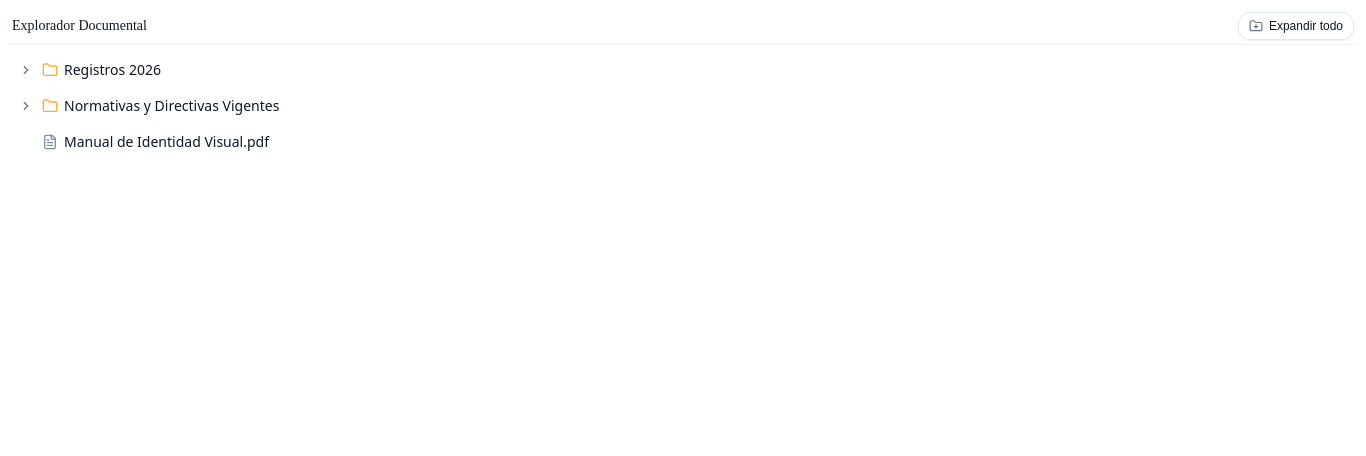
Test: TreeView Component › permite expandir y contraer todo el árbol con el botón toggle en la barra de herramientas
Expected: the text "Explorador Documental" is shown, x1=12 y1=16 x2=147 y2=36
Expected: the text "Aduanas y Aranceles" is not shown
Click the button "Expandir todo" at (1296, 26), box x1=1238 y1=12 x2=1354 y2=40
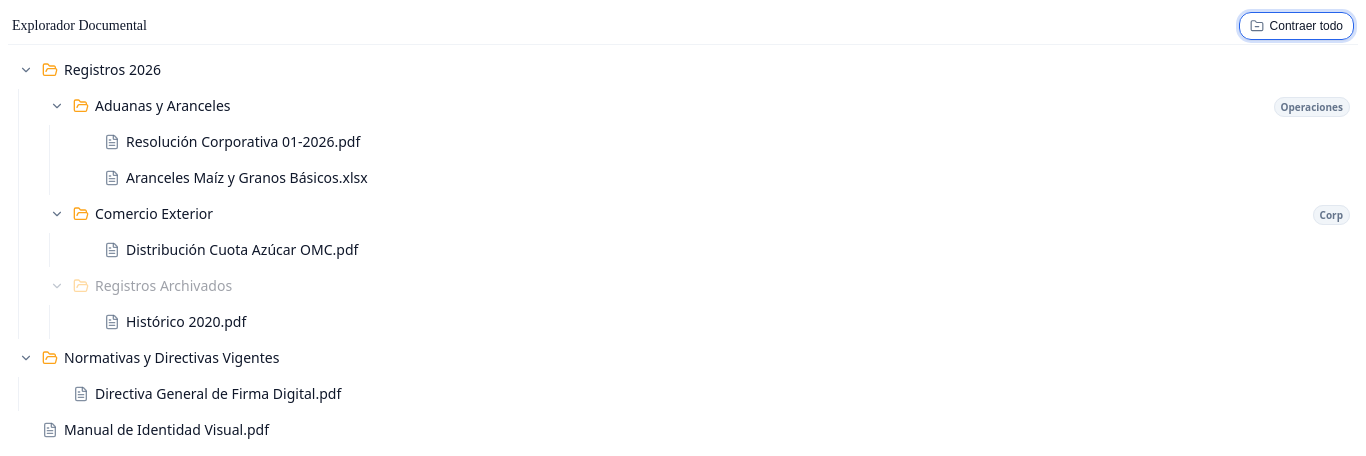
Expected: the text "Aduanas y Aranceles" is shown, x1=95 y1=96 x2=230 y2=115
Expected: the text "Resolución Corporativa 01-2026.pdf" is shown, x1=126 y1=132 x2=360 y2=151
Expected: the text "Comercio Exterior" is shown, x1=95 y1=204 x2=213 y2=223
Click the button "Contraer todo" at (1296, 26), box x1=1239 y1=12 x2=1354 y2=40
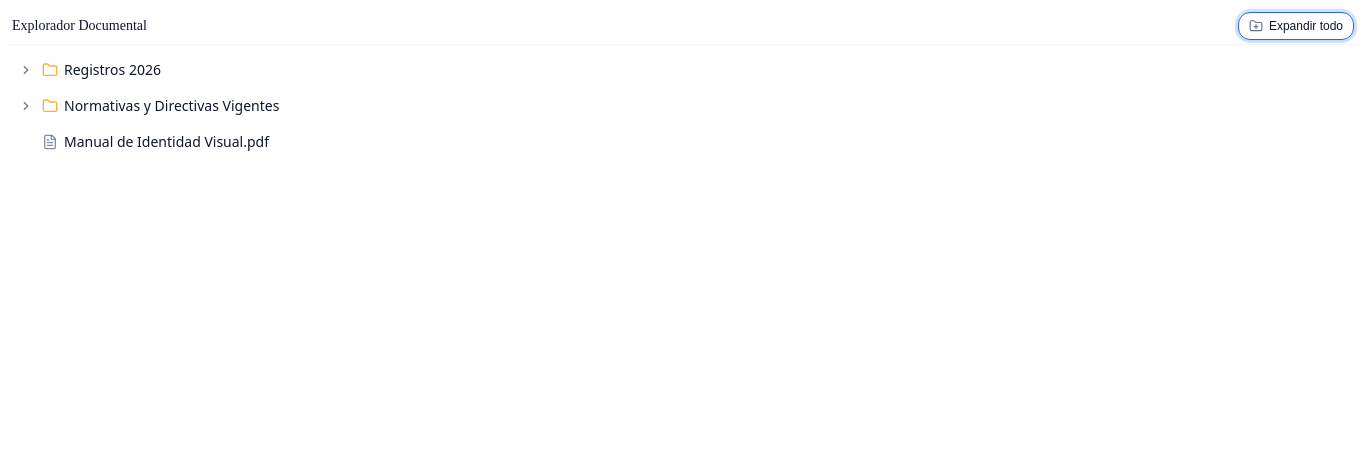
Expected: the text "Aduanas y Aranceles" is gone
Expected: the text "Directiva General de Firma Digital.pdf" is gone
